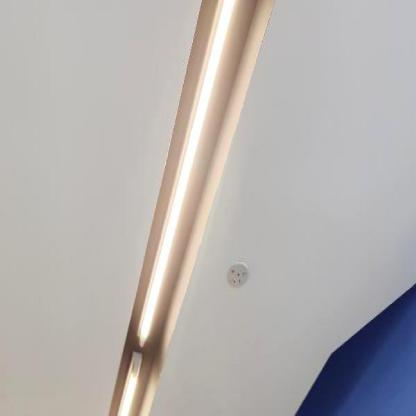light_on: (134, 0, 241, 345), (112, 348, 145, 415)
